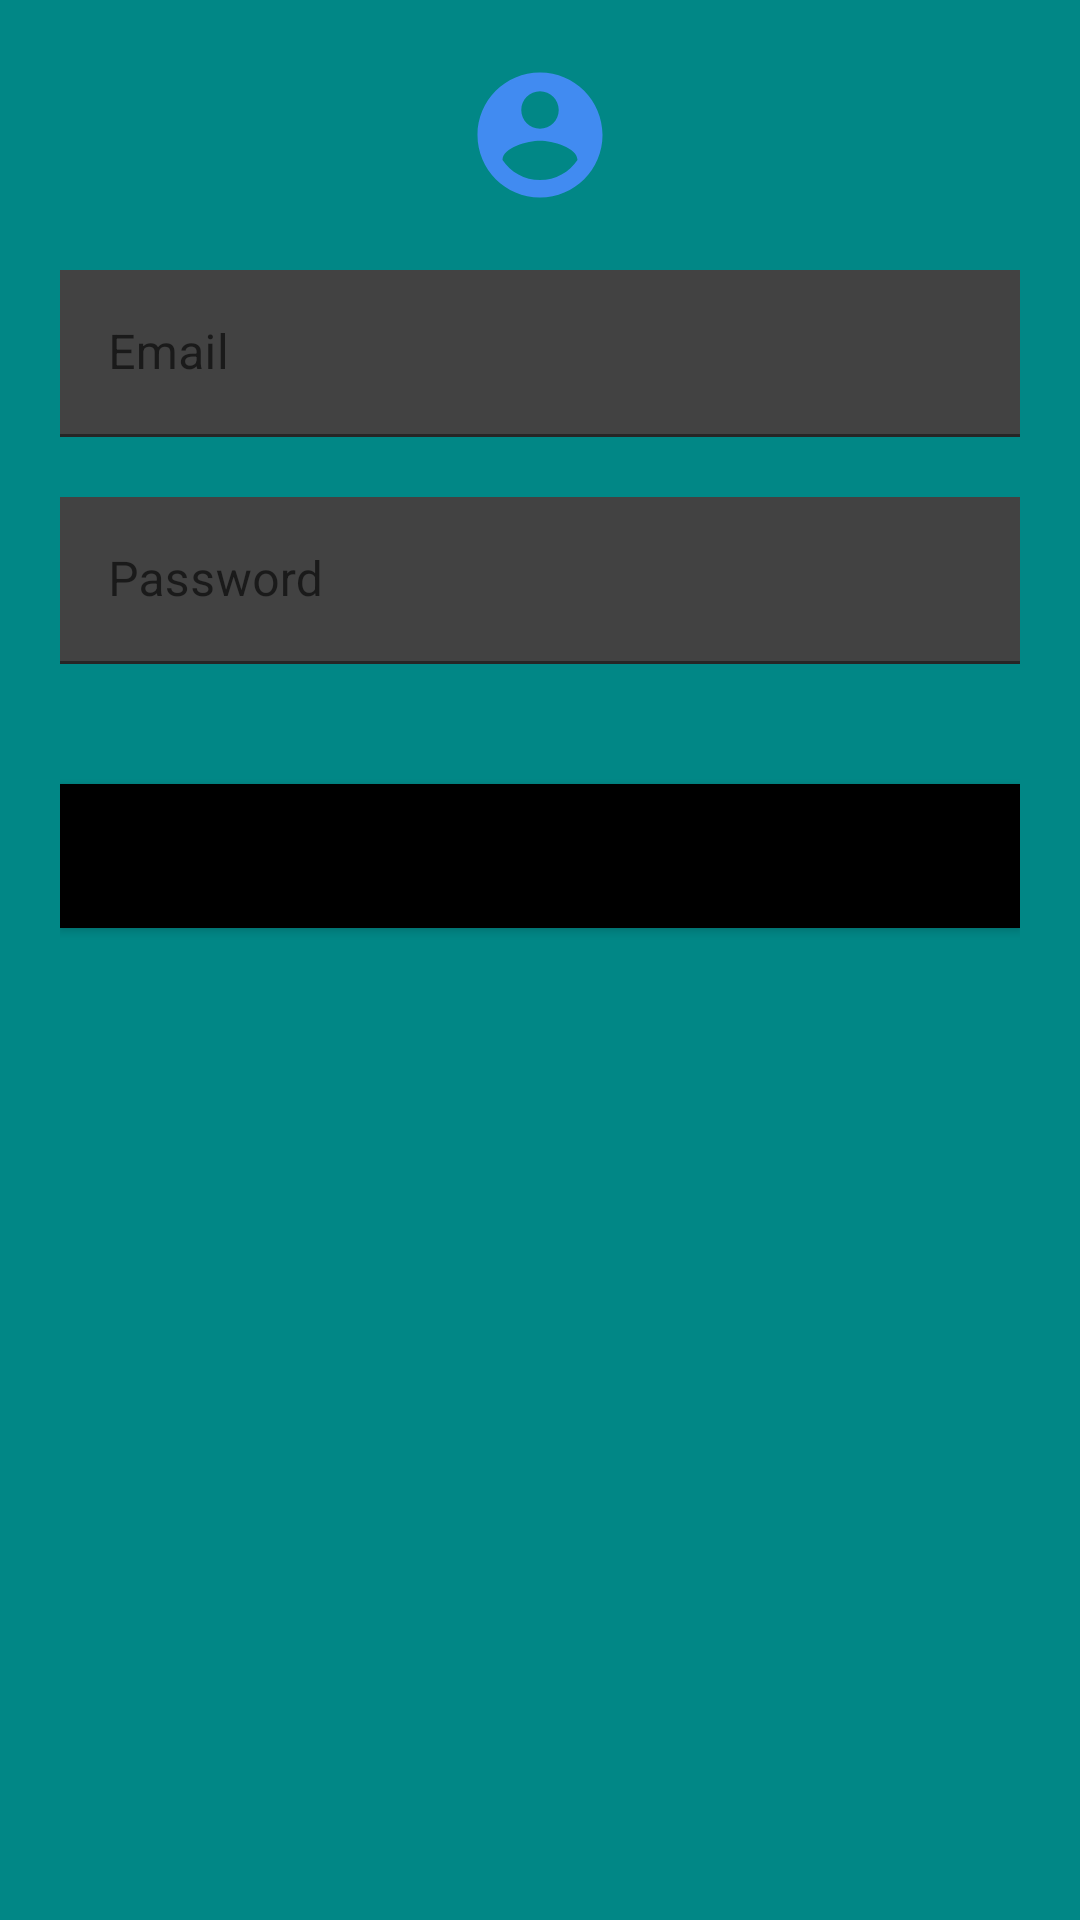

Where icons sit on this 1080px×1920px app screen, as (x1, y1, x2, y2):
account circle: (477, 72, 603, 198)
